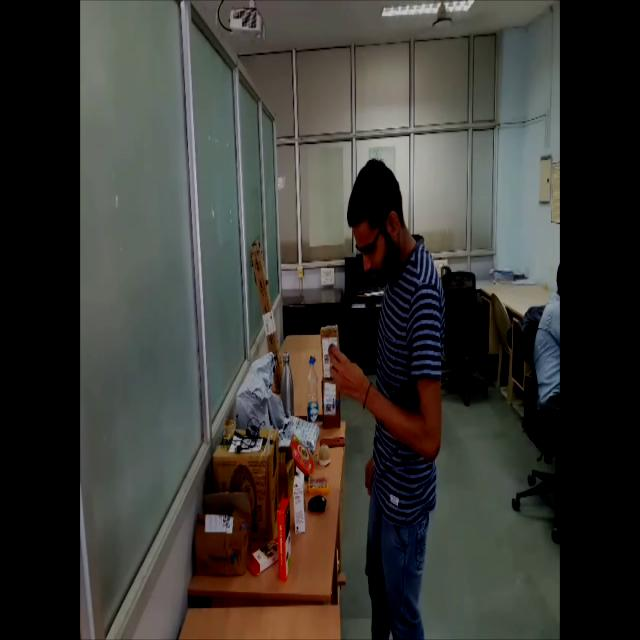normal: (318, 145, 454, 640)
